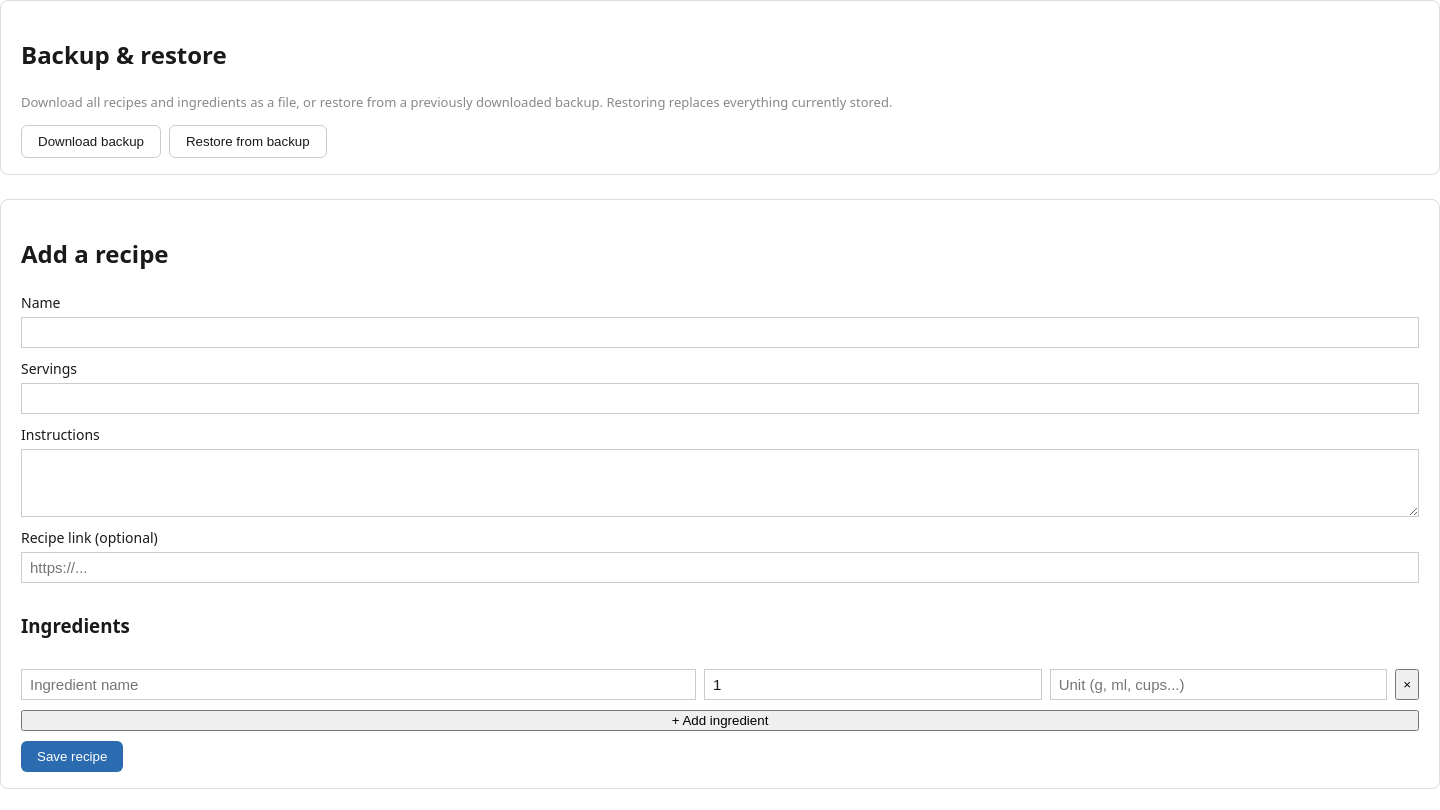
RecipesPage ingredient autocomplete › shows a matching ingredient-name suggestion while typing and fills the row on click
Type "Ched" into the dropdown with placeholder "Ingredient name".
click(359, 684); type("Ched")  # box [21,669,696,700]
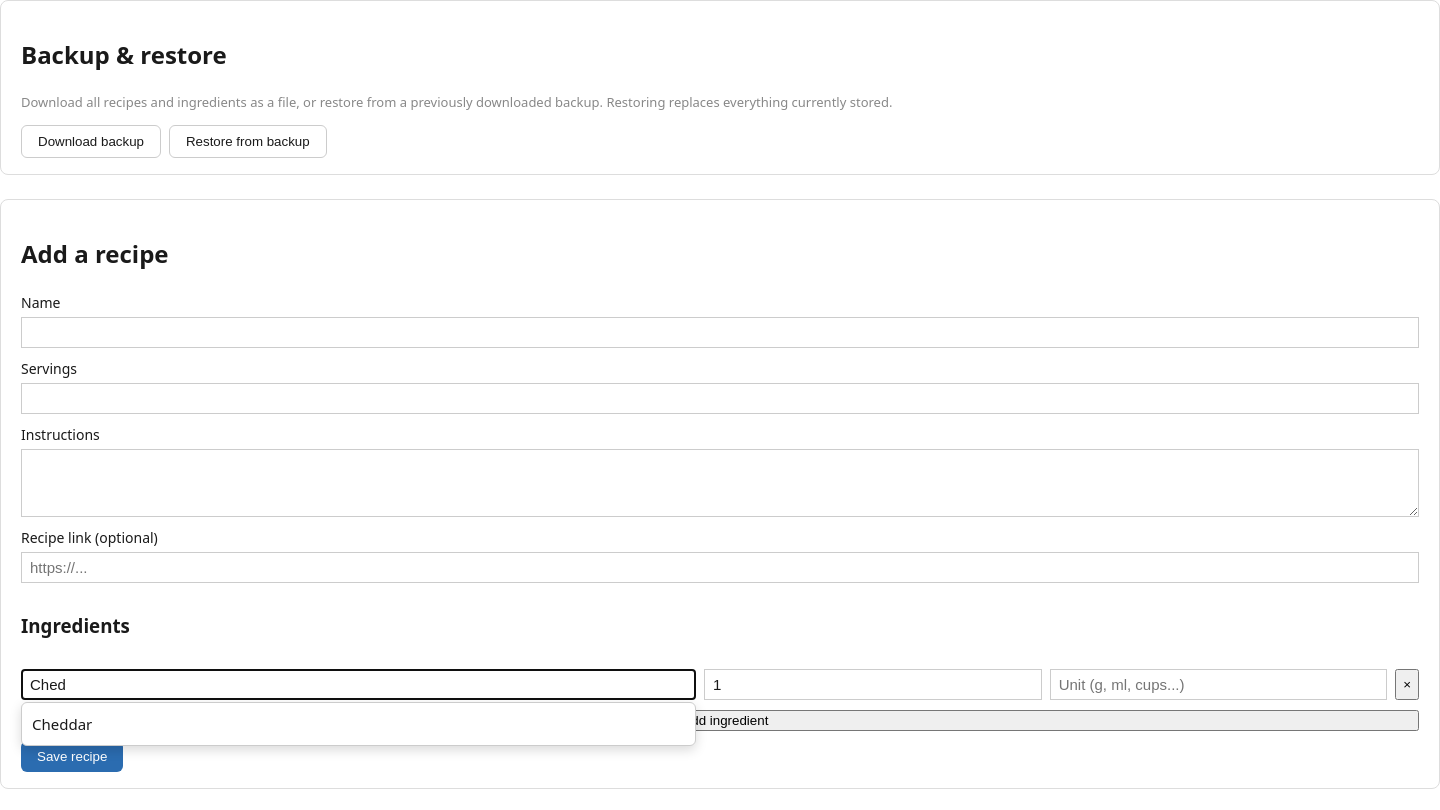
Click the option "Cheddar".
click(62, 724)  # box [32,714,92,734]
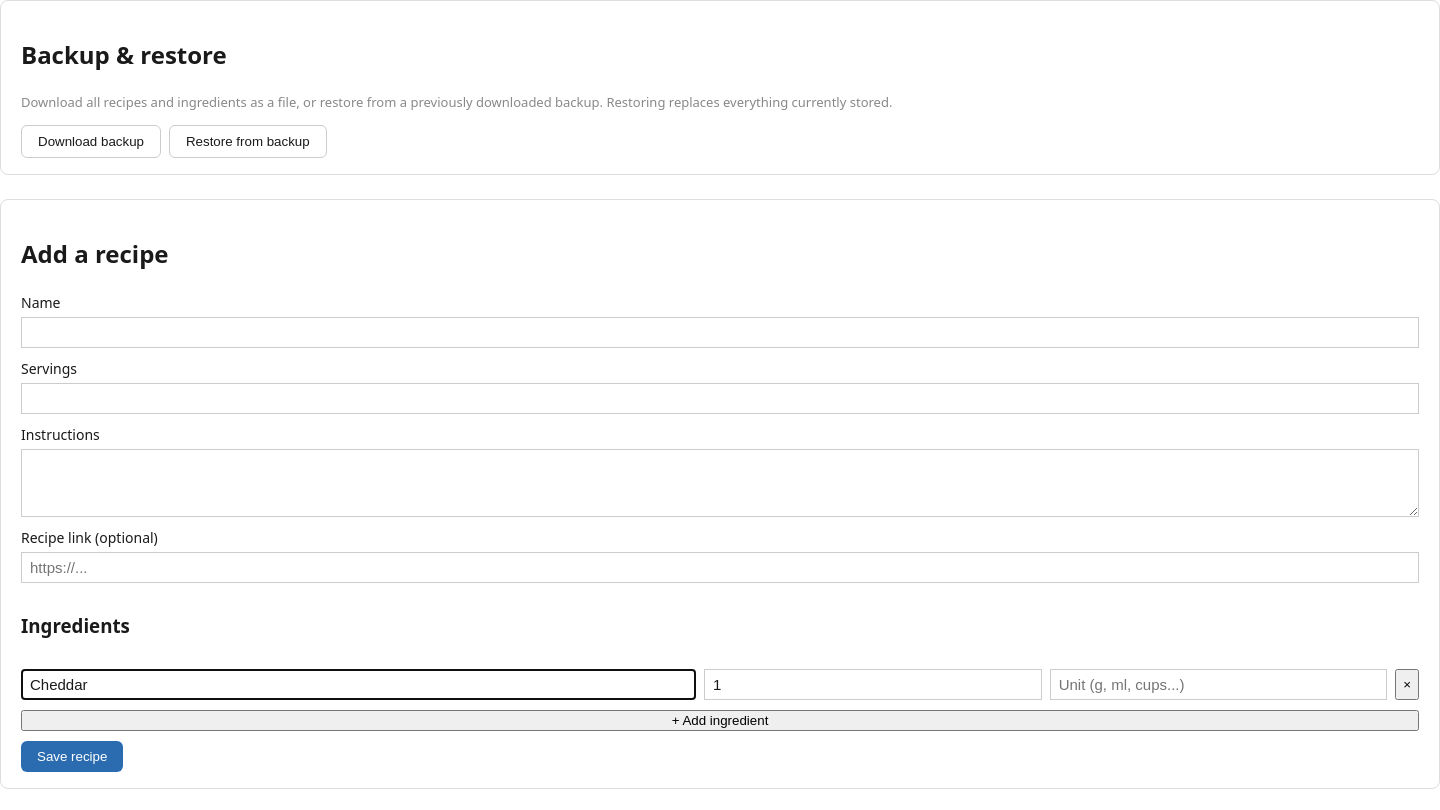
Now the dropdown with placeholder "Ingredient name" holds "Cheddar", box [21,669,696,700]
